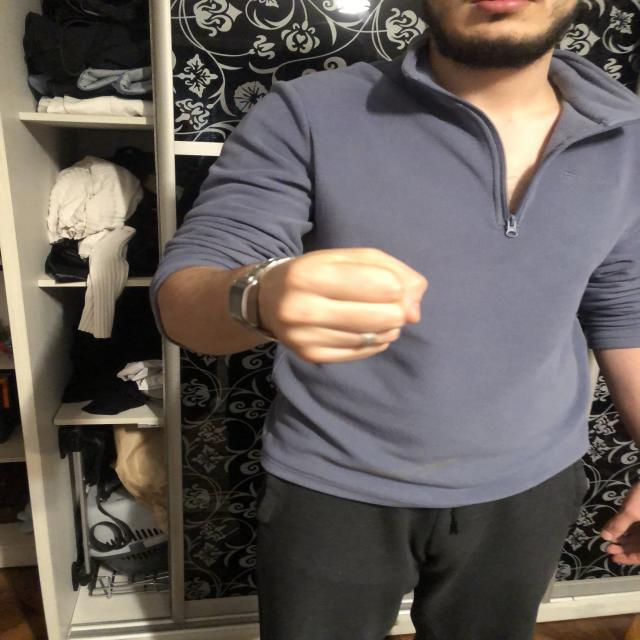rock: (272, 250, 426, 360)
